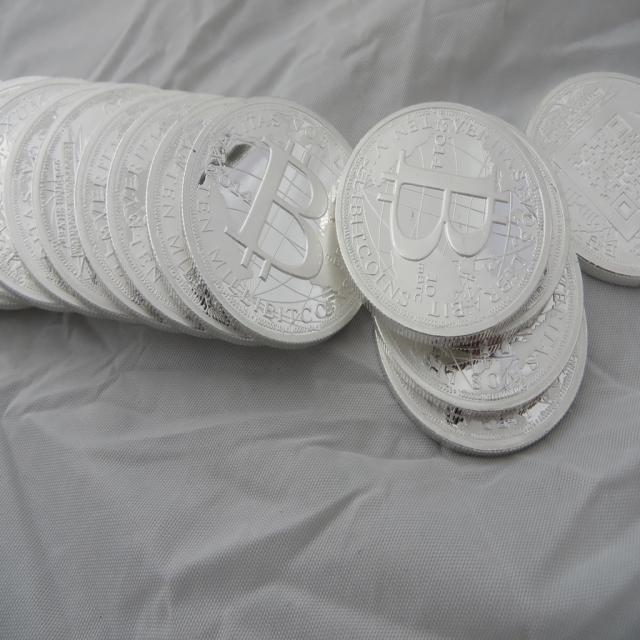Coin: (0, 71, 640, 459)
